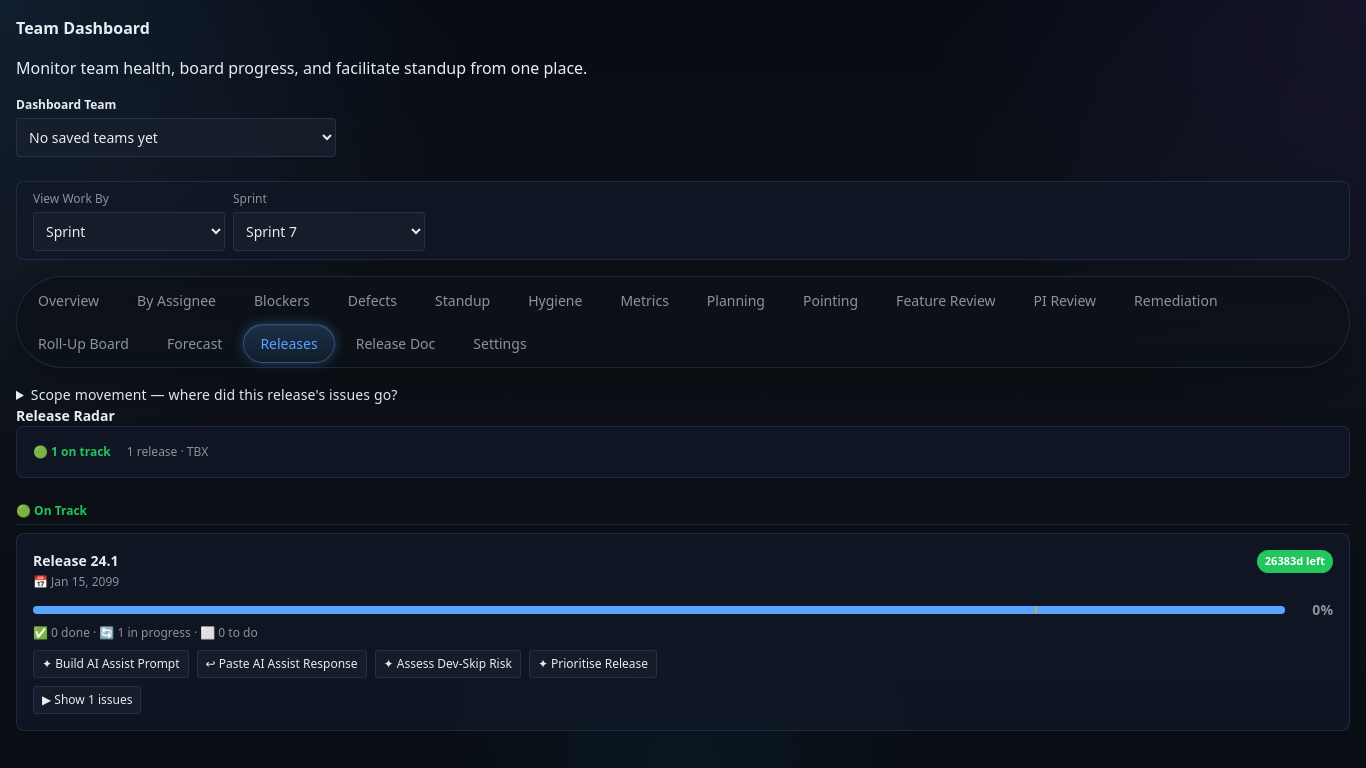
Test case: SprintDashboardView › release prompt modal offers copy + paste-back only — no automated exchange button
expect the heading "Release 24.1" is shown: met, box [33,550,119,571]
Click the button "✦ Build AI Assist Prompt": {"x": 111, "y": 664} [33,650,189,678]
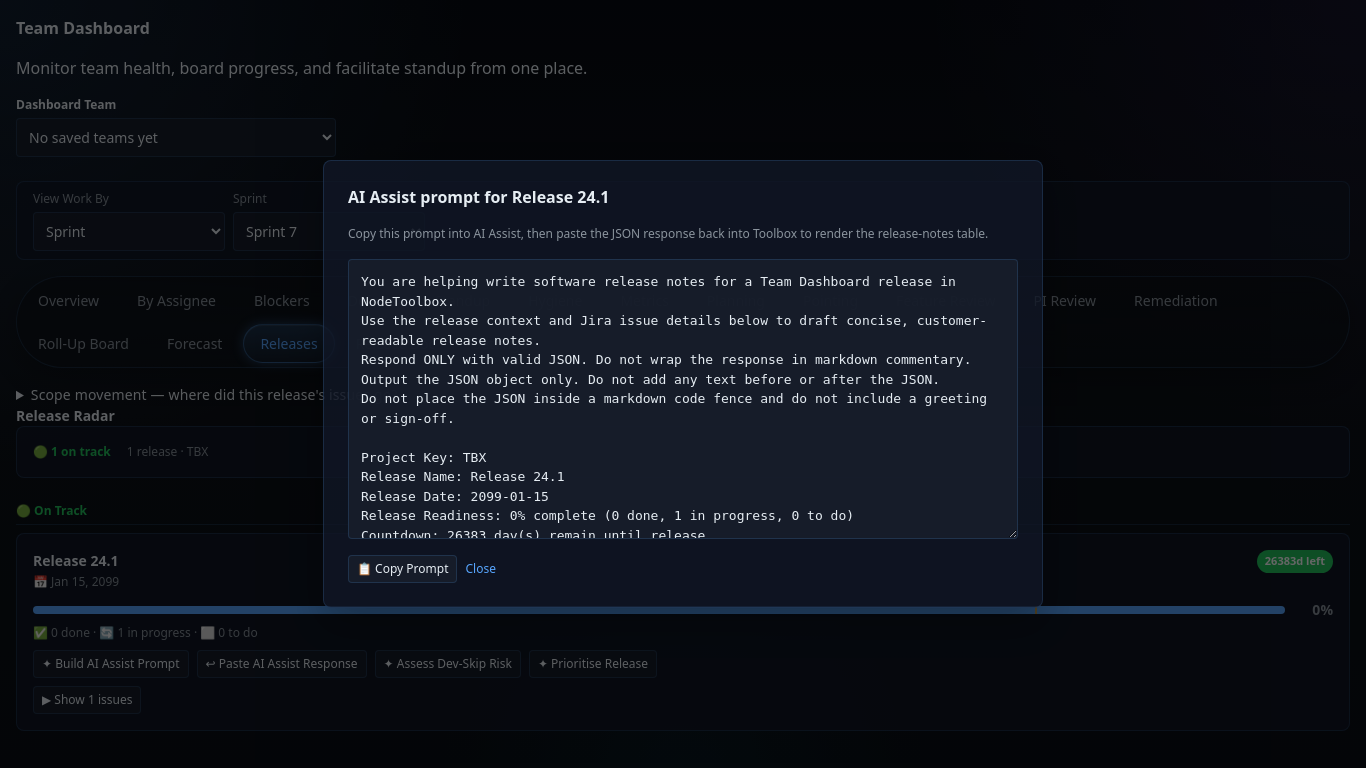
expect the text box named "AI Assist release prompt" is shown: met, box [348,259,1018,539]
expect the button "📋 Copy Prompt" is shown: met, box [348,555,458,583]
